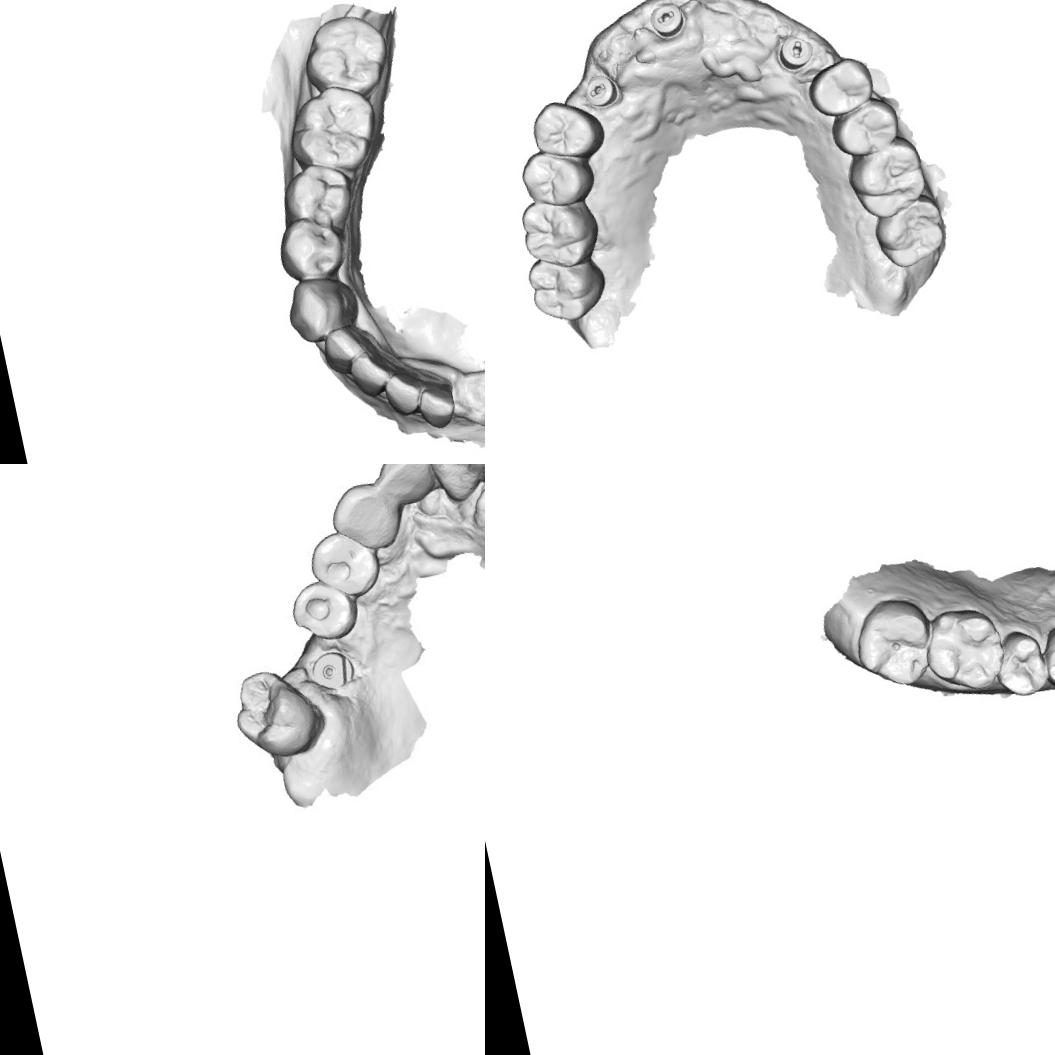canine: (278, 270, 364, 348), (324, 478, 404, 560)
implant: (307, 647, 359, 699)
implant_minus: (774, 29, 818, 74), (644, 0, 691, 41), (579, 70, 618, 108)
incisor: (318, 318, 380, 376), (342, 345, 395, 401), (409, 380, 460, 433), (379, 464, 440, 506), (377, 368, 425, 420), (426, 464, 485, 501)
molar: (224, 659, 330, 770), (280, 78, 388, 182), (294, 6, 400, 107), (844, 592, 940, 694), (920, 602, 1014, 700), (514, 192, 605, 278), (845, 138, 932, 225), (870, 192, 951, 272), (525, 252, 603, 327)
premolar: (273, 158, 358, 239), (269, 208, 351, 286), (526, 93, 606, 167), (516, 142, 594, 214), (826, 93, 904, 163), (803, 49, 878, 120), (285, 575, 358, 647), (310, 530, 382, 598), (993, 626, 1055, 702), (1038, 618, 1055, 692)
